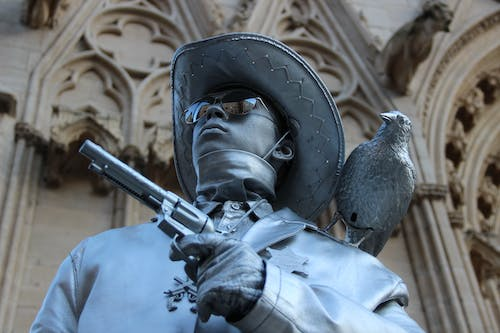gun: (76, 137, 217, 269)
